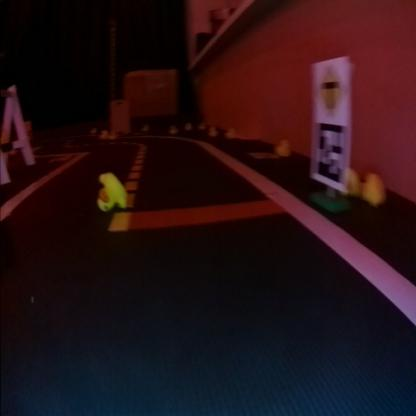Duckie: (98, 172, 126, 210), (364, 172, 386, 204), (277, 138, 292, 154), (210, 127, 218, 135)
QR code: (314, 128, 347, 182), (251, 152, 275, 158)
